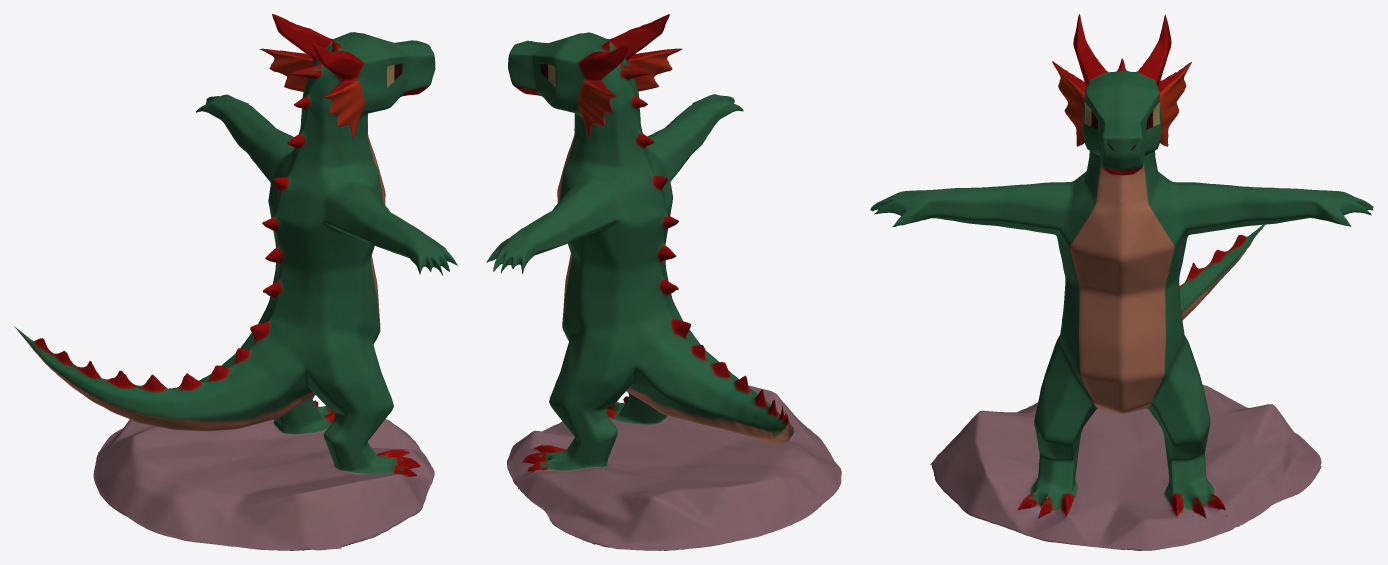
Rendered from dragon earth.glb.
3 renders of one model, left to right at view 1: azimuth 30°, elevation 25°; view 2: azimuth 150°, elevation 25°; view 3: azimuth 270°, elevation 25°, orthographic. The views are drawn at different scales.
Visible parts, largest first — view 1: tripo_node_3b5dd6bd; view 2: tripo_node_3b5dd6bd; view 3: tripo_node_3b5dd6bd.
Boxes of the visible parts, x1,y1,x2,y2 form: tripo_node_3b5dd6bd: [14, 14, 457, 550]; tripo_node_3b5dd6bd: [486, 14, 841, 550]; tripo_node_3b5dd6bd: [870, 14, 1373, 550].
Size of the model in its own units: 0.8163 by 0.9957 by 0.9605.
Materials: 1 (1 with a texture image).
